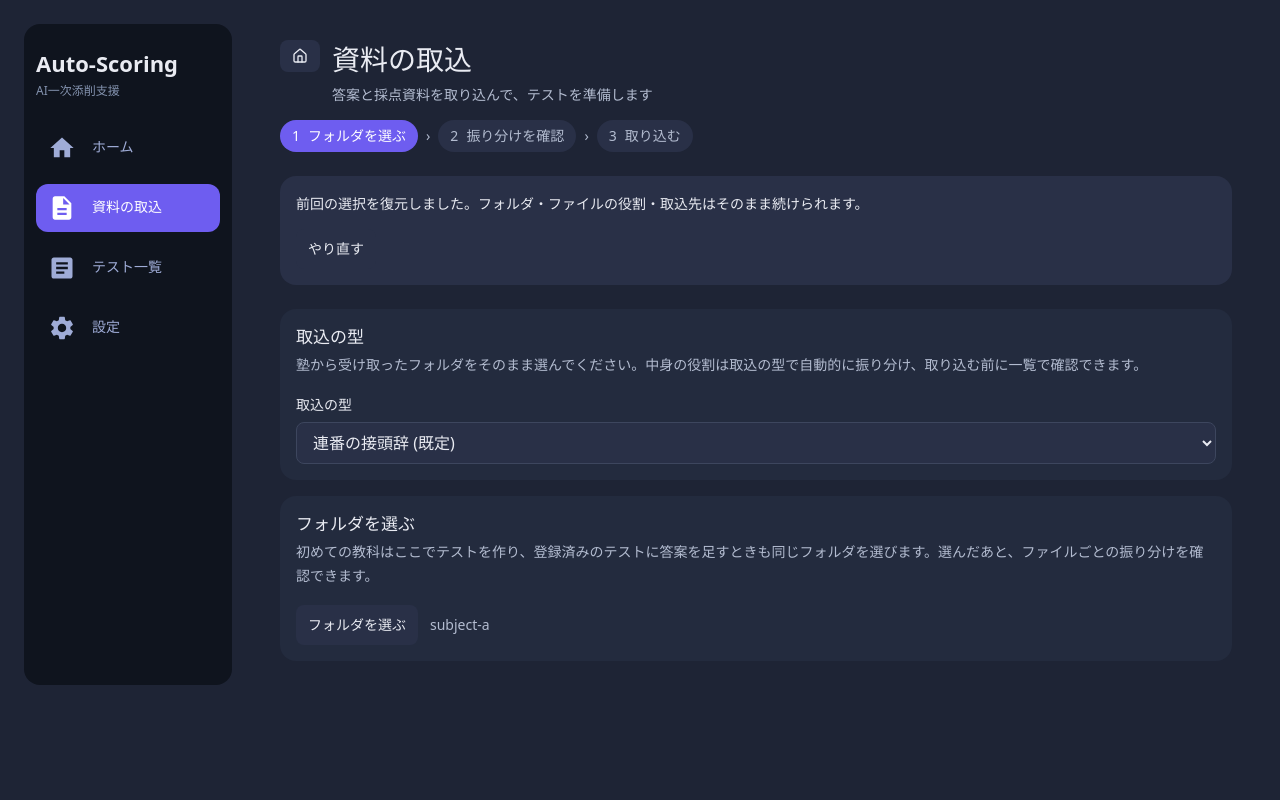
Test case: Issue #384 (3): the intake selection survives leaving the screen › picking a folder again does not carry the previous narrowing over
This screenshot has width=1280, height=800.
Click the button with test id "intake-choose-folder": (357, 625) top-left (296, 605), bottom-right (418, 645)
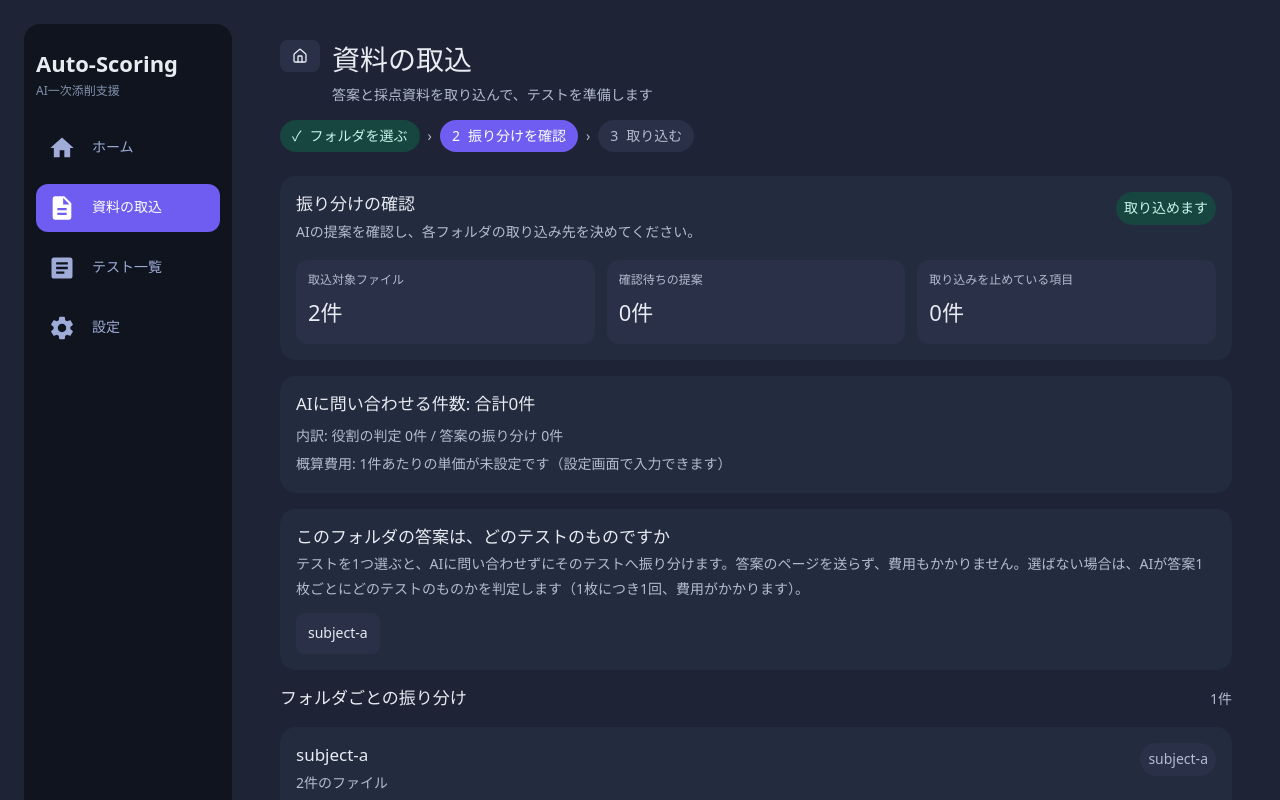
expect the button with test id "intake-narrow-test-1" is shown: met, box top-left (296, 613), bottom-right (380, 654)
